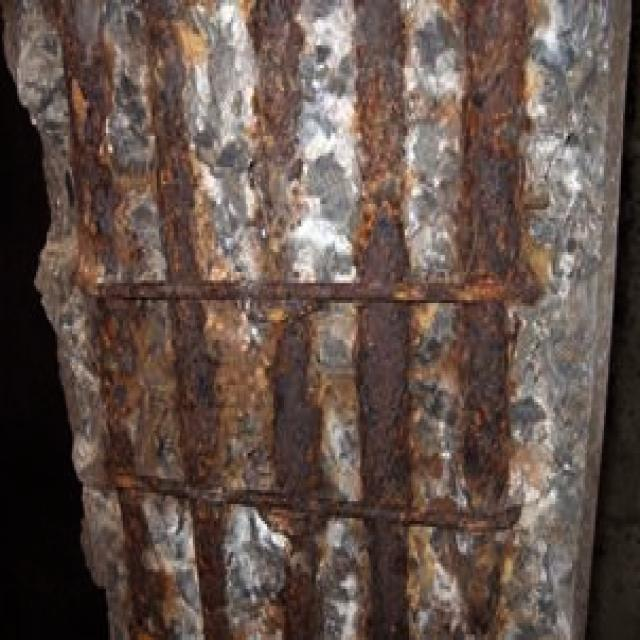Spalling: (60, 1, 614, 636)
